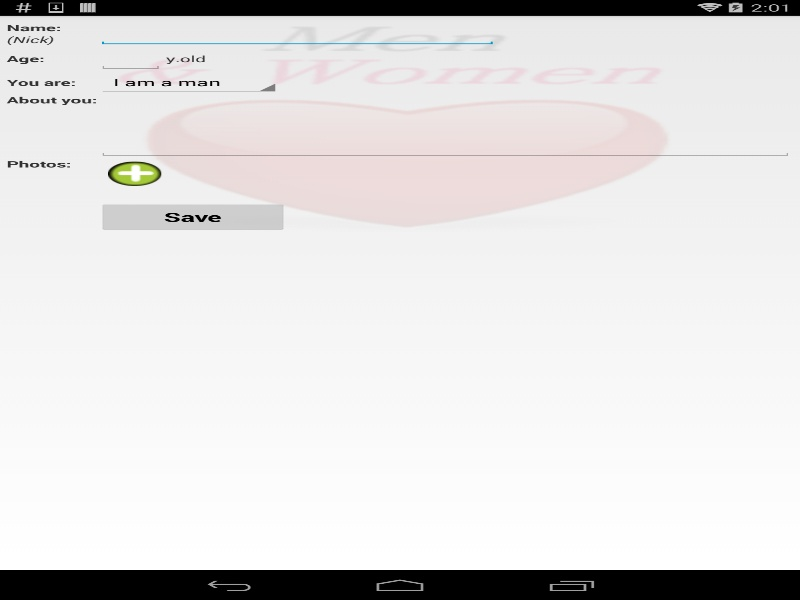Button: (97, 201, 288, 231)
Input: (97, 94, 793, 158), (97, 21, 497, 46), (97, 46, 164, 71)
